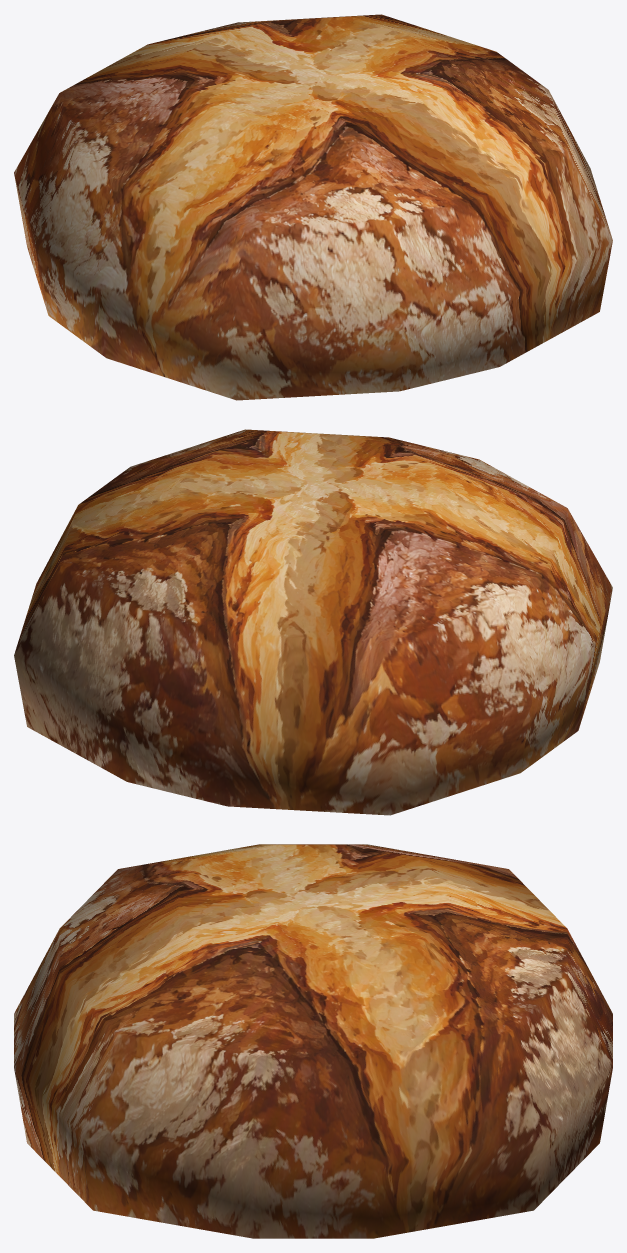
File: bread.fbx
3 renders of one model, top to bottom at view 1: azimuth 30°, elevation 25°; view 2: azimuth 150°, elevation 25°; view 3: azimuth 270°, elevation 25°, orthographic. The views are drawn at different scales.
Visible parts, largest first — view 1: Cube; view 2: Cube; view 3: Cube.
Boxes of the visible parts, left/top/right/bottom form: Cube: left=14, top=14, right=612, bottom=400; Cube: left=14, top=429, right=612, bottom=815; Cube: left=14, top=844, right=612, bottom=1238.
Bounding box in the file's own units: 16.46 × 6.55 × 16.46.
